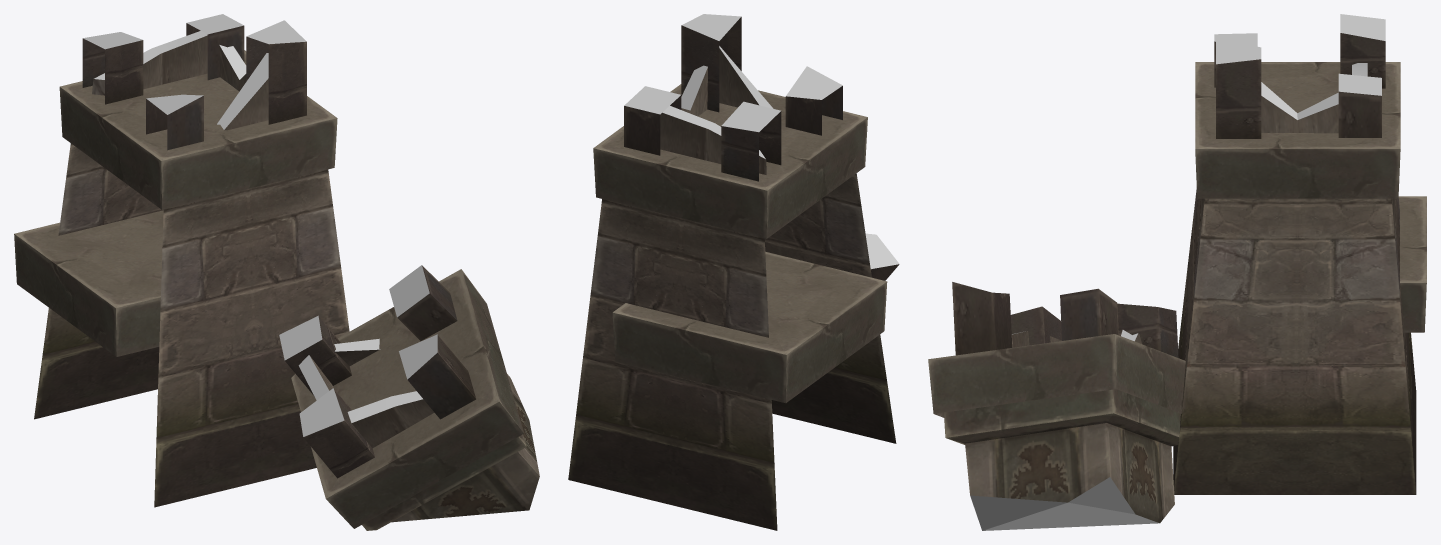
Rendered from building_city_zhuchengshizhu01_po2.FBX.
3 views of the same model, side by side, from view 1: azimuth 30°, elevation 25°; view 2: azimuth 150°, elevation 25°; view 3: azimuth 270°, elevation 25° (orthographic). The views are drawn at different scales.
Visible parts, largest first — view 1: building_city_zhuchengshizhu01_po2; view 2: building_city_zhuchengshizhu01_po2; view 3: building_city_zhuchengshizhu01_po2.
Part boxes in pixels (box(x1,y1,x2,y2)): building_city_zhuchengshizhu01_po2: box(14, 14, 539, 530); building_city_zhuchengshizhu01_po2: box(568, 14, 899, 530); building_city_zhuchengshizhu01_po2: box(928, 14, 1426, 530).
Bounding box in the file's own units: 6.89 × 8.07 × 8.67.
